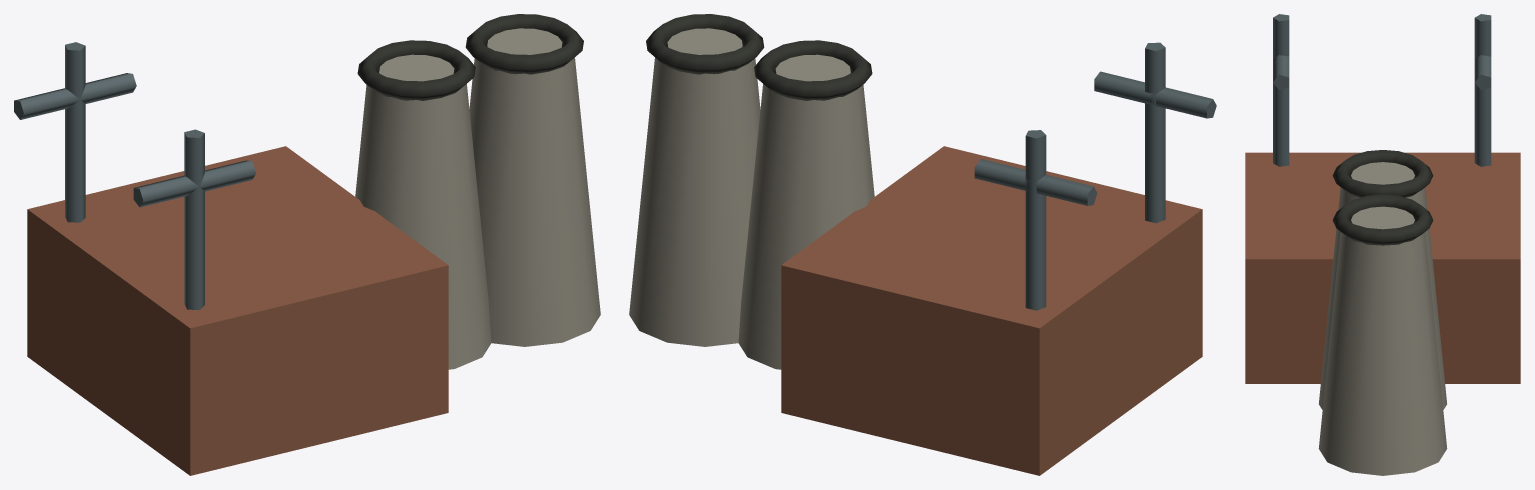
File: custom-cb-powerplant.glb
3 renders of one model, left to right at view 1: azimuth 30°, elevation 25°; view 2: azimuth 150°, elevation 25°; view 3: azimuth 270°, elevation 25°, orthographic. The views are drawn at different scales.
Parts seen in each view (by area): view 1: custom-cb-powerplant; view 2: custom-cb-powerplant; view 3: custom-cb-powerplant.
Boxes of the visible parts, x1,y1,x2,y2 form: custom-cb-powerplant: [14, 14, 600, 475]; custom-cb-powerplant: [629, 14, 1216, 475]; custom-cb-powerplant: [1245, 14, 1520, 475].
Size of the model in its own units: 1 by 0.5963 by 0.5505.
